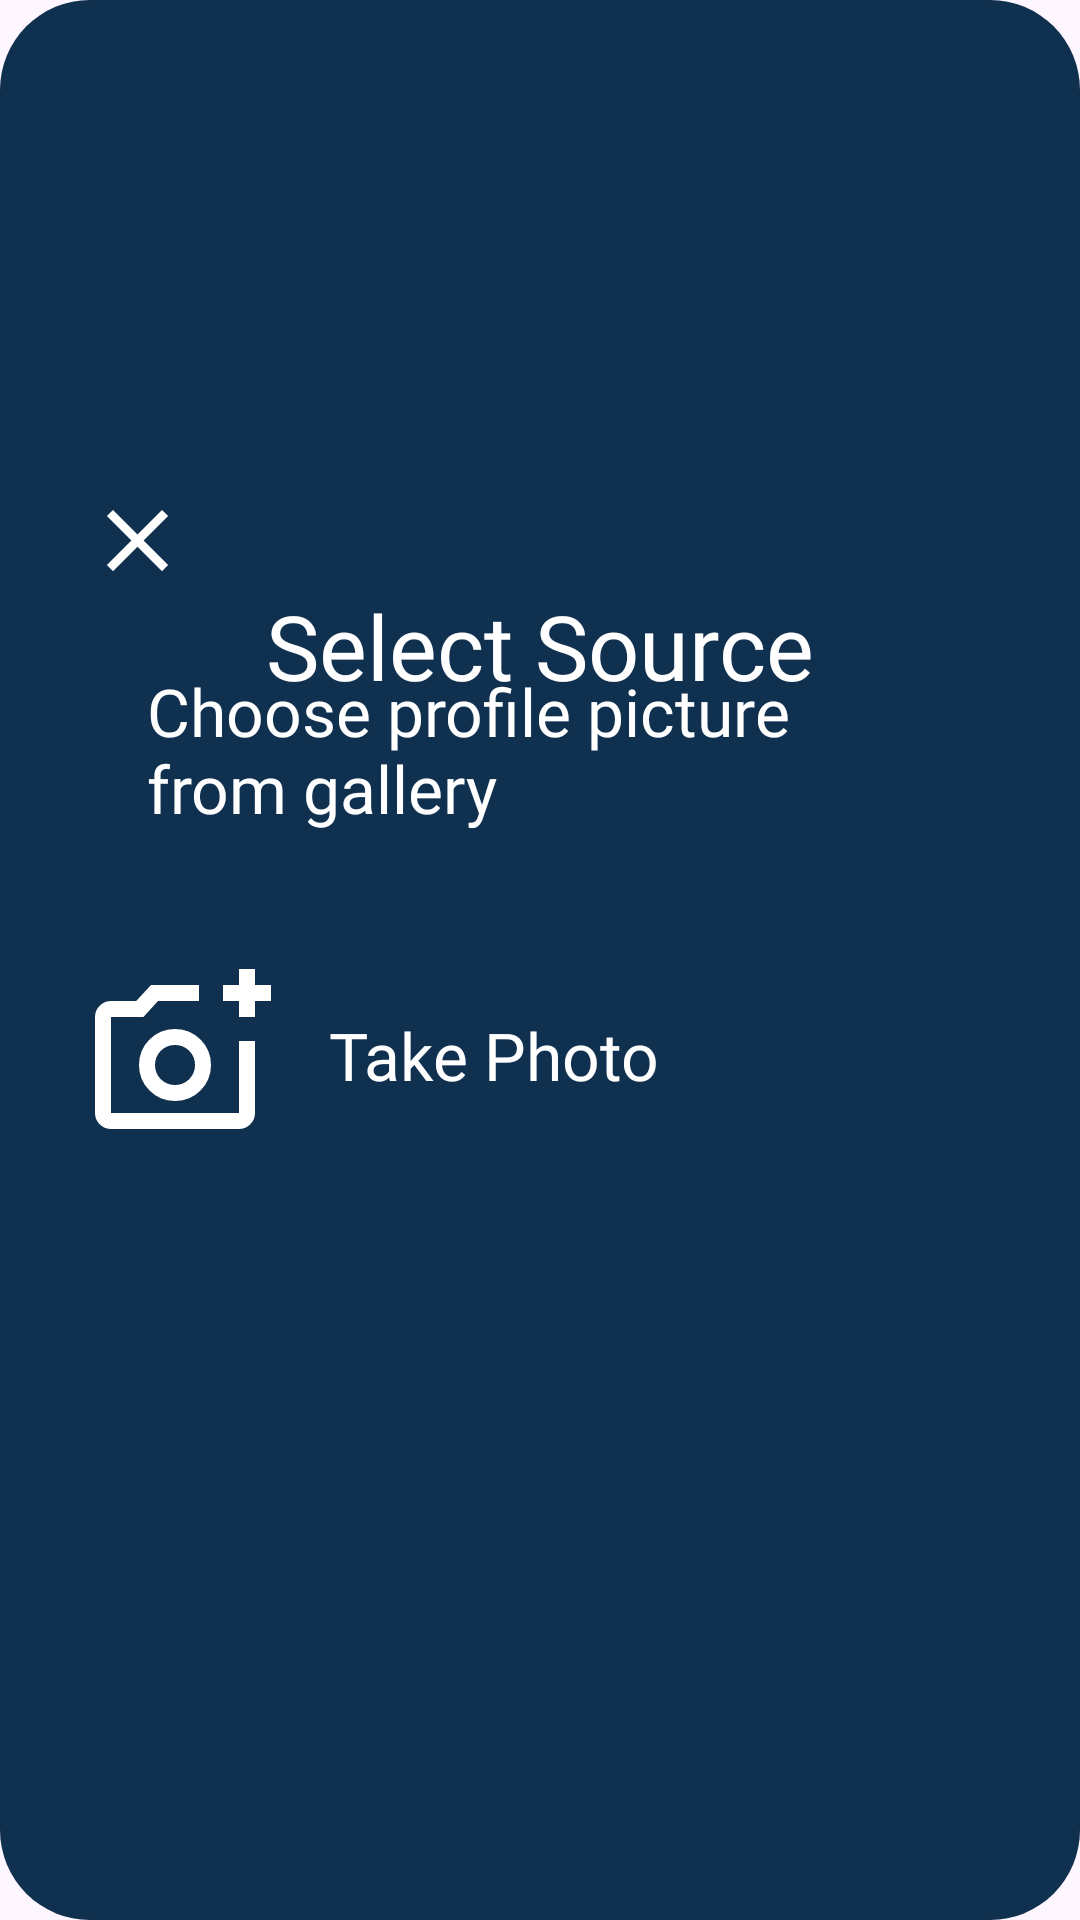

Named icons in this screenshot (1080px×1920px) and their centers, (x=x, y=y):
Camera: (x=183, y=1049)
close: (x=137, y=540)
